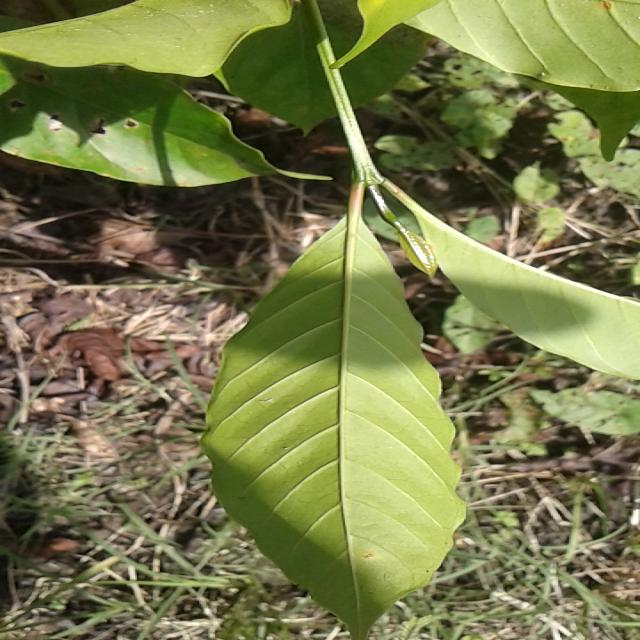Enfermedad-Roya: (200, 207, 468, 640)
